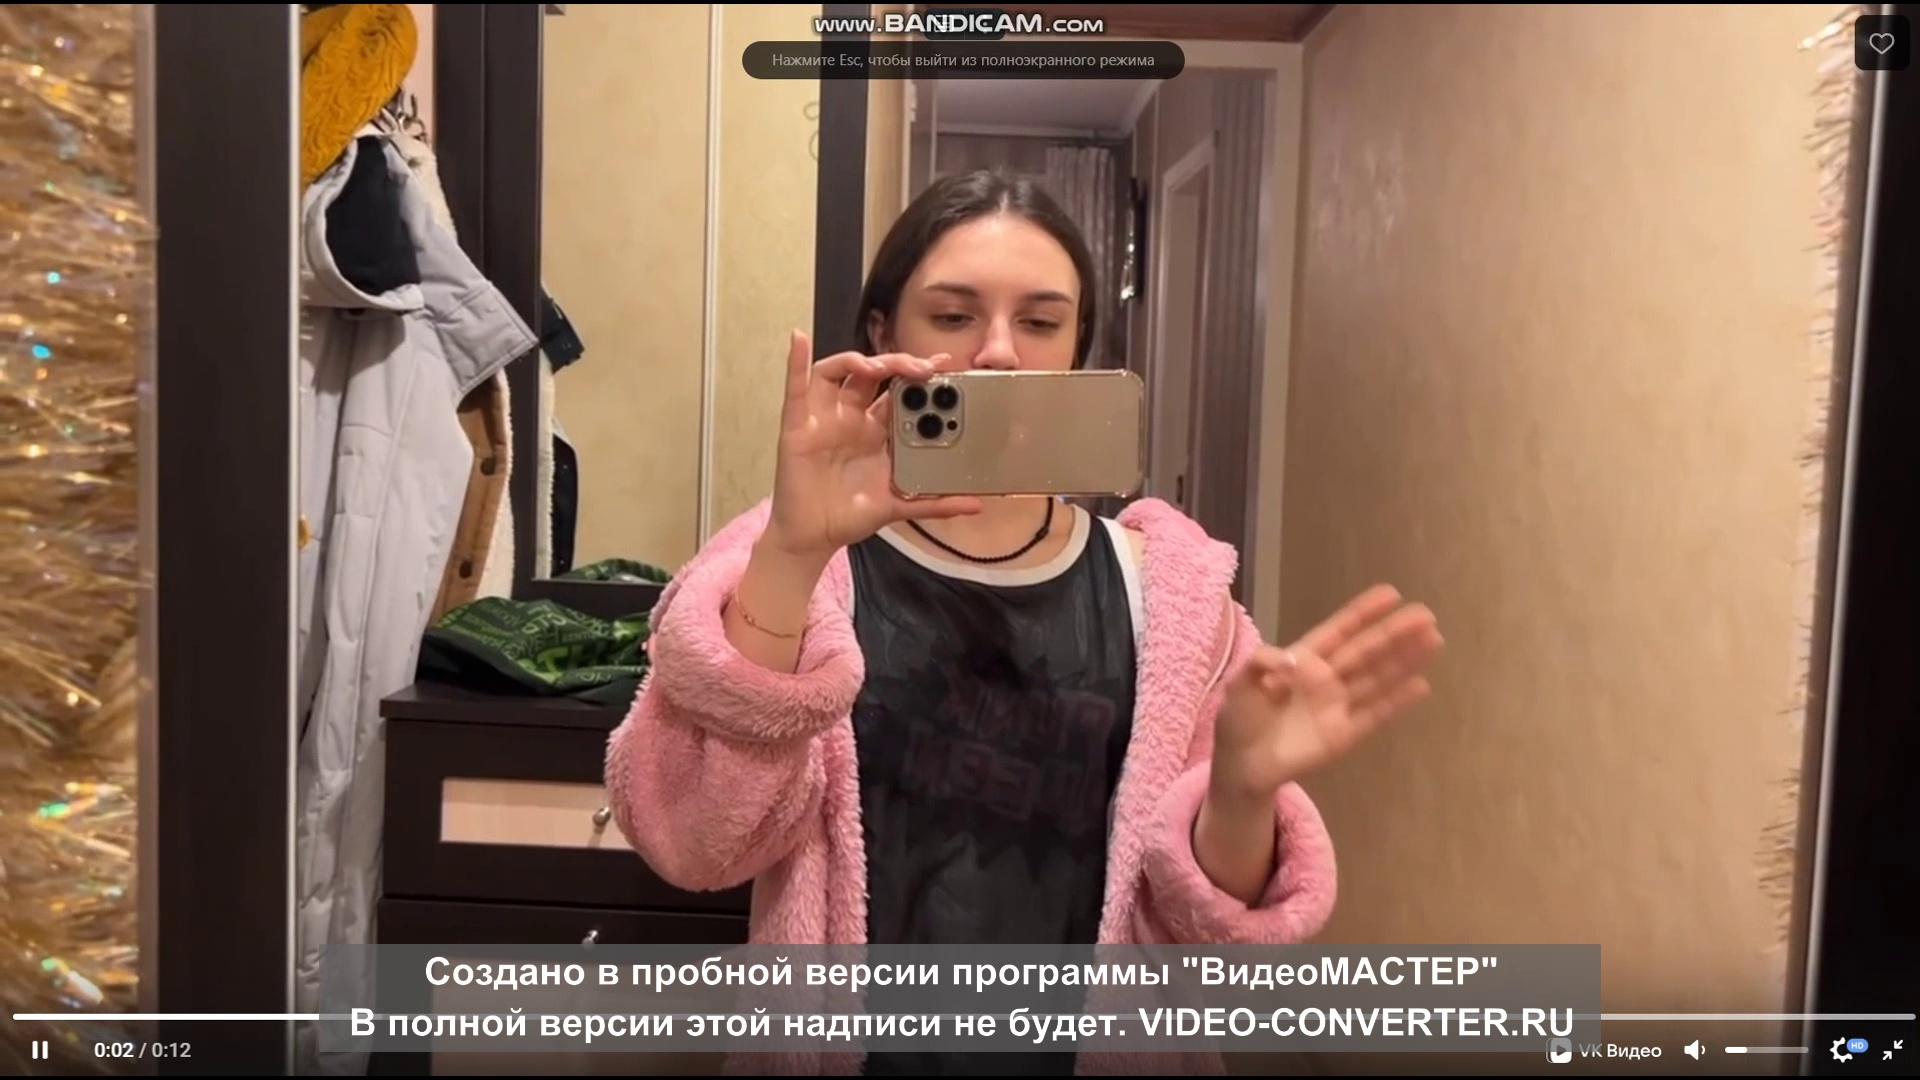Ладонь: (1209, 583, 1448, 793)
